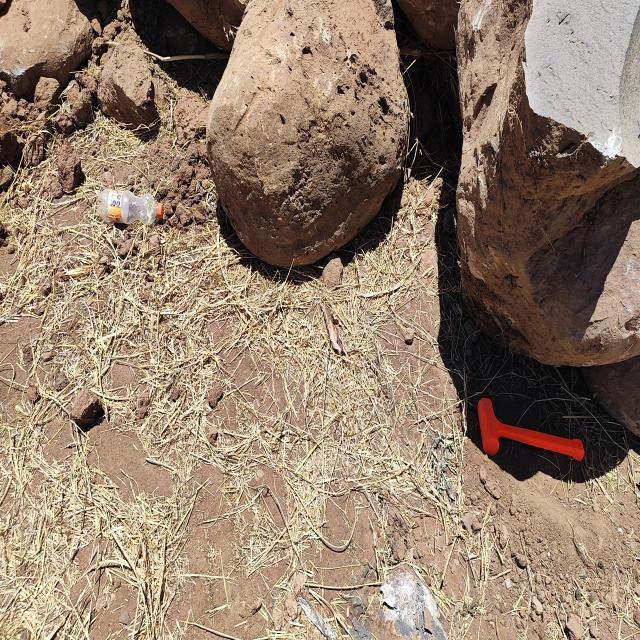Orange_hammer: (477, 396, 585, 463)
